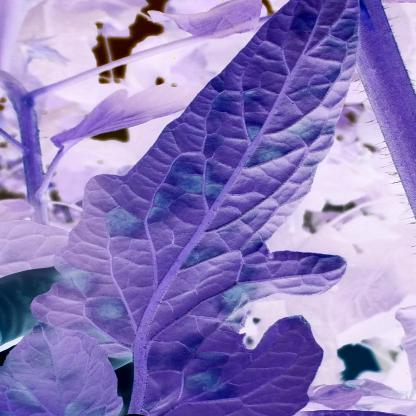Tomato mold leaf: (20, 2, 364, 416)
